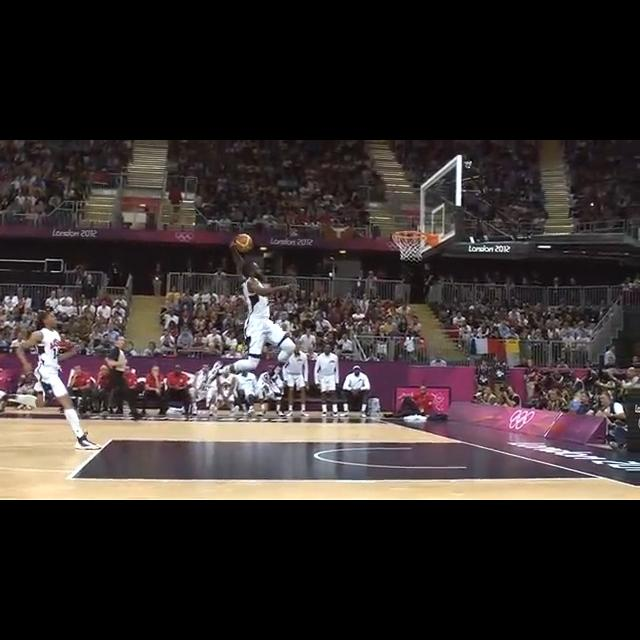basketball: (232, 235, 255, 252)
hoop: (390, 229, 427, 264)
